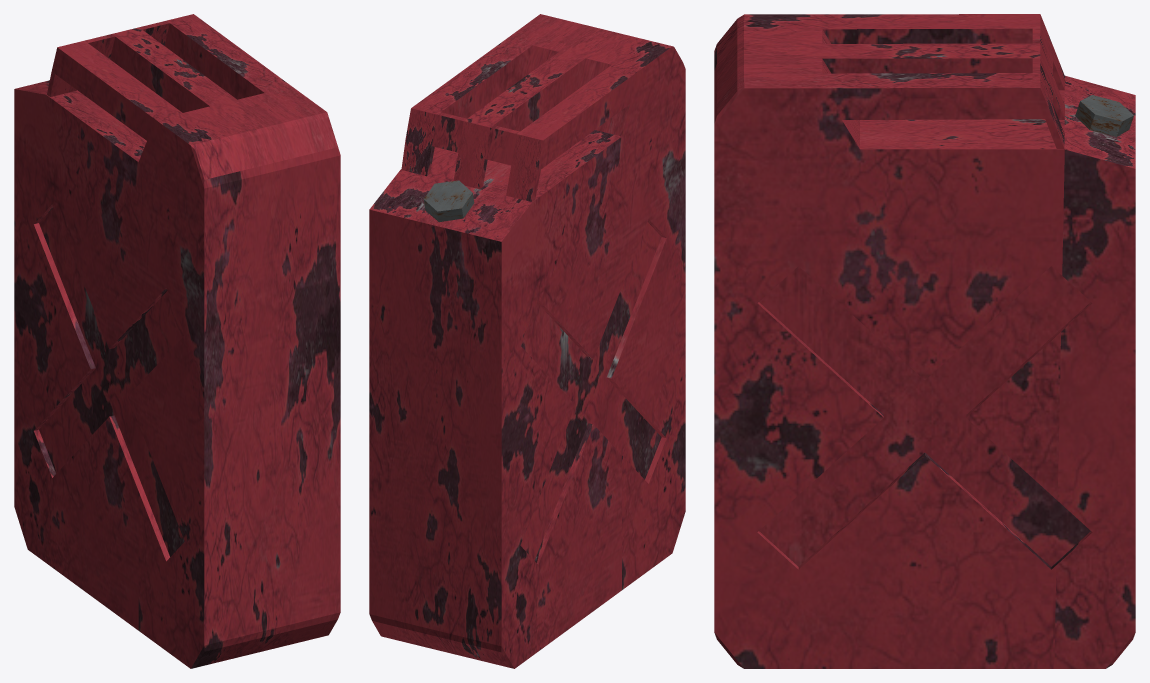
File: BidonGasolina.fbx
3 views of the same model, side by side, from view 1: azimuth 30°, elevation 25°; view 2: azimuth 150°, elevation 25°; view 3: azimuth 270°, elevation 25° (orthographic). The views are drawn at different scales.
Parts seen in each view (by area): view 1: Cube; view 2: Cube, Cylinder; view 3: Cube, Cylinder.
Part boxes in pixels (x1,y1,x2,y2): Cube: (14, 14, 340, 668); Cube: (369, 14, 685, 668); Cylinder: (423, 180, 474, 222); Cube: (714, 14, 1135, 668); Cylinder: (1075, 95, 1133, 136).
Bounding box in the file's own units: 59.25 × 217 × 143.
Materials: 2 (2 with a texture image).
